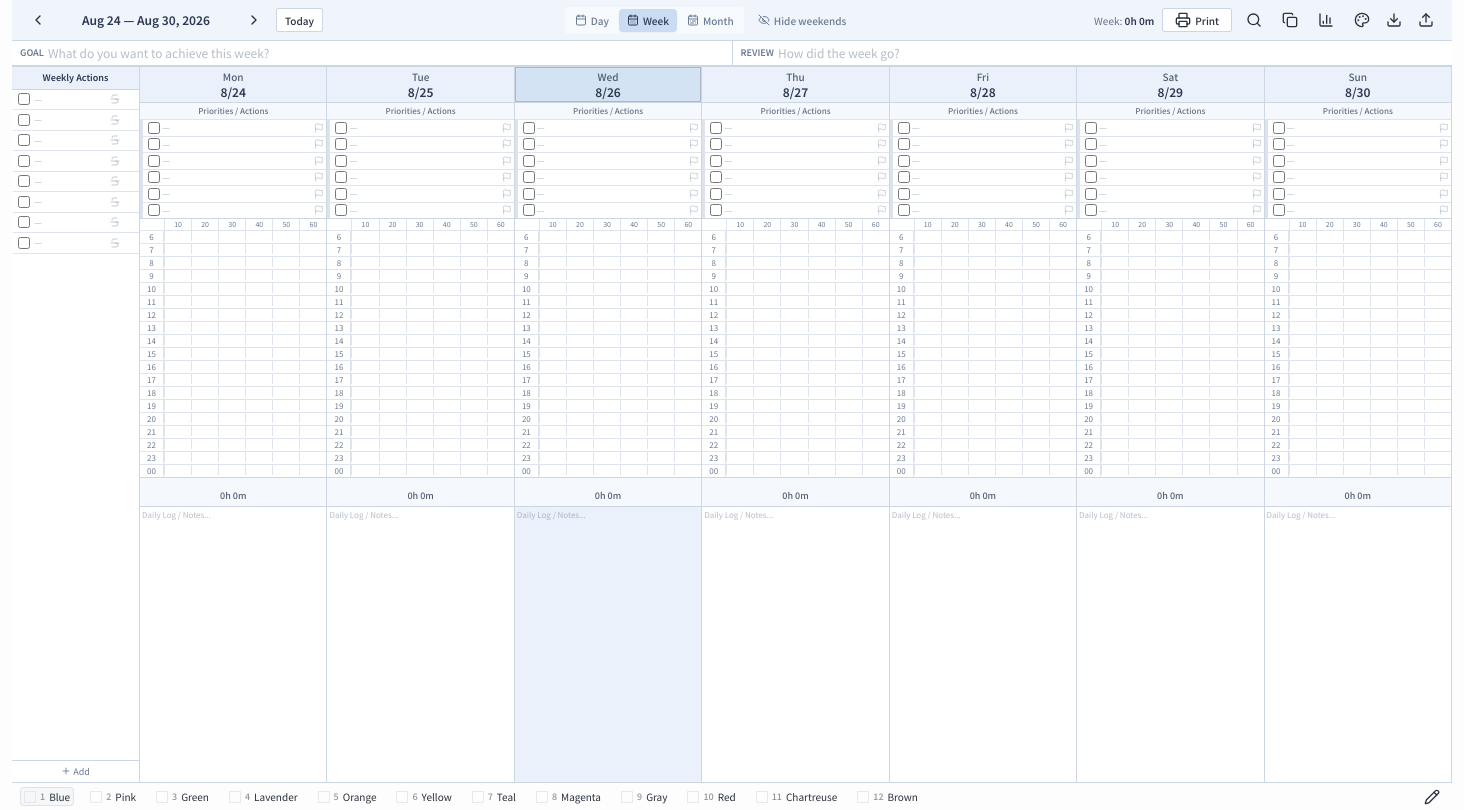
Test: StudyPlanner across tabs › drops the notice when the week changes
Type "Mine" into the field with placeholder "What do you want to achieve this week?" at (386, 53), box [48, 45, 724, 61]
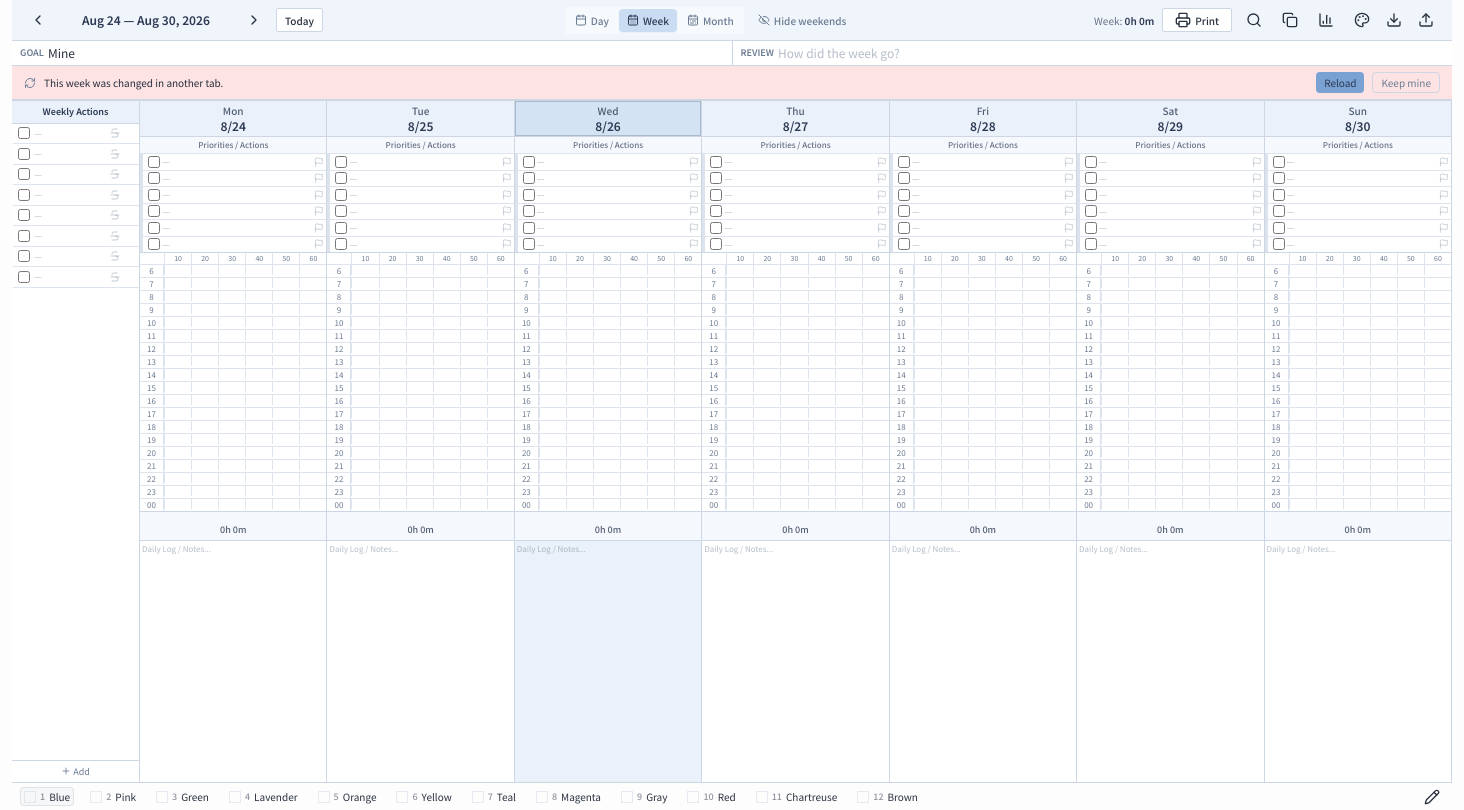
Check: the text "This week was changed in another tab." is shown, box [44, 75, 223, 90]
Click the button named "Next week" at (254, 20), box [240, 6, 268, 34]
Wait 400 ms
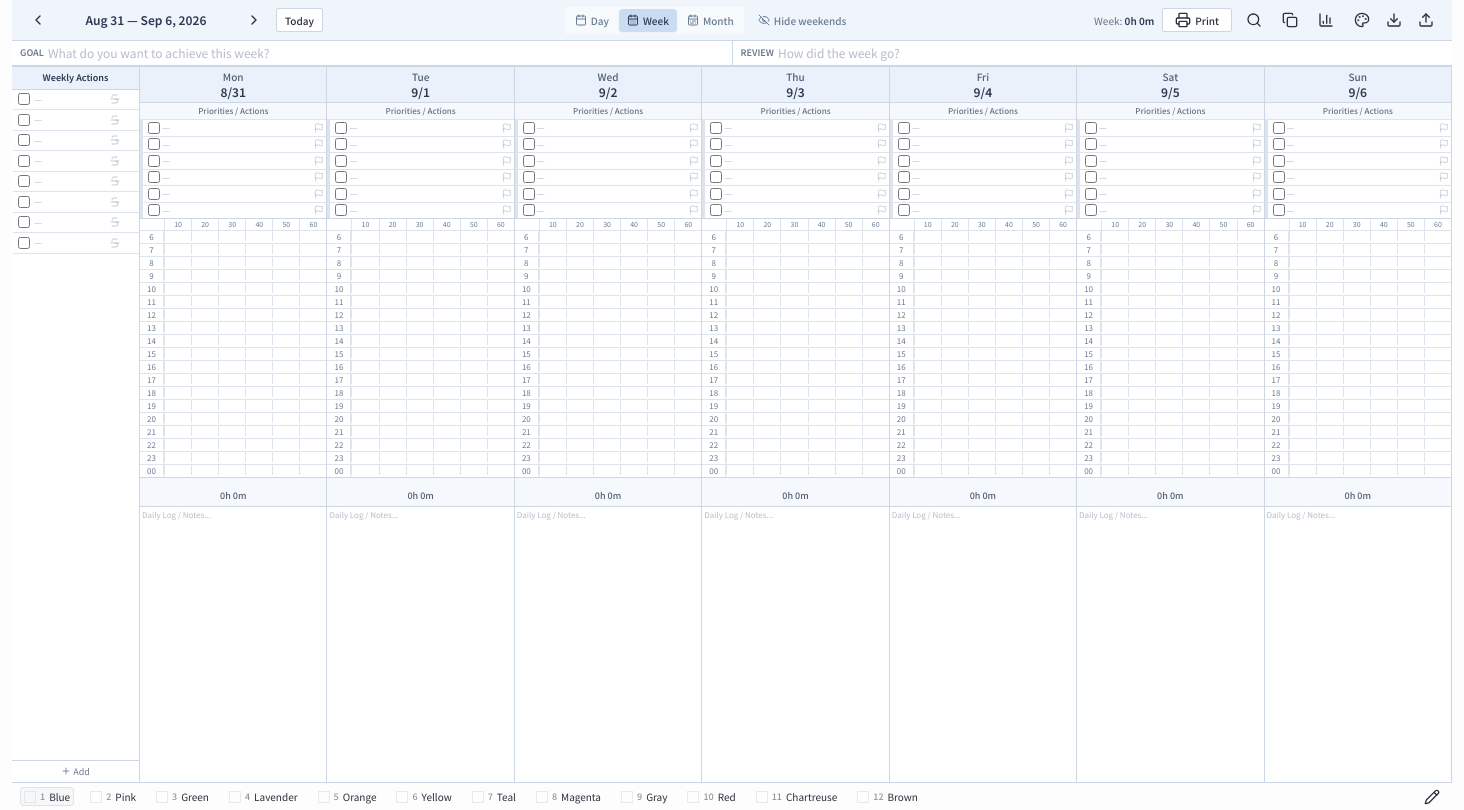
Check: the text "changed in another tab" is gone
